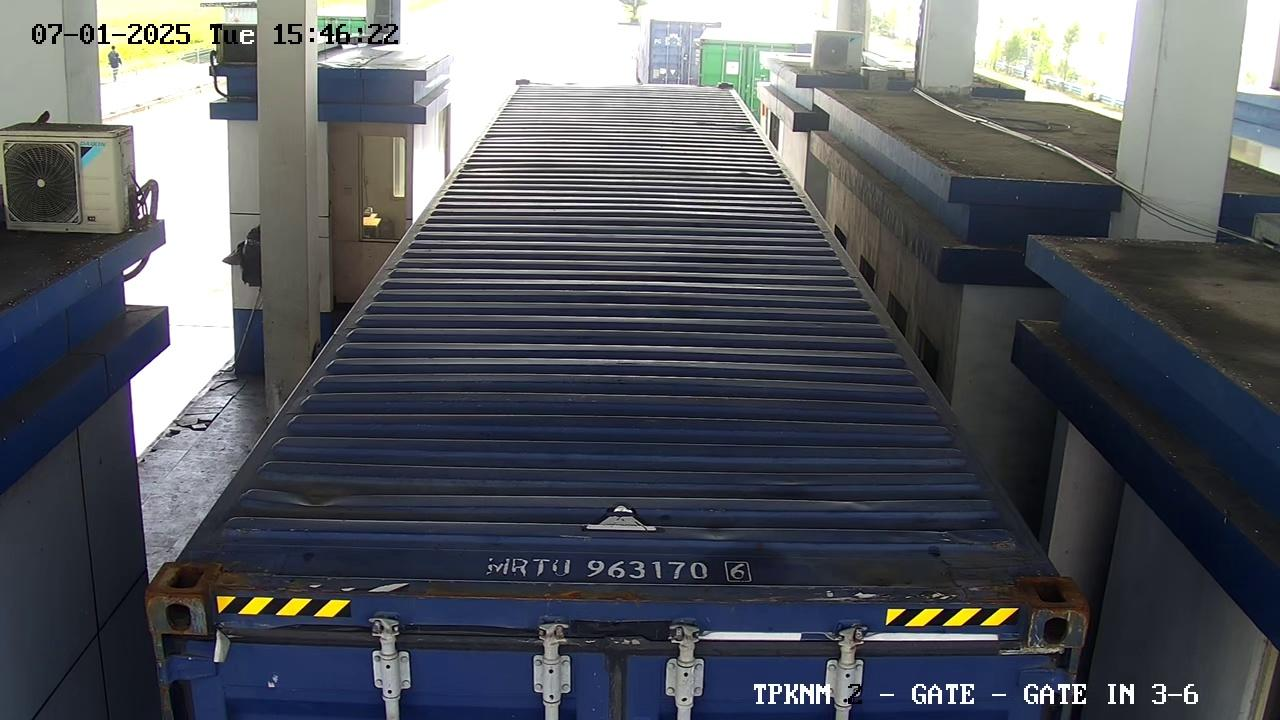Container_ID: (460, 545, 771, 605)
